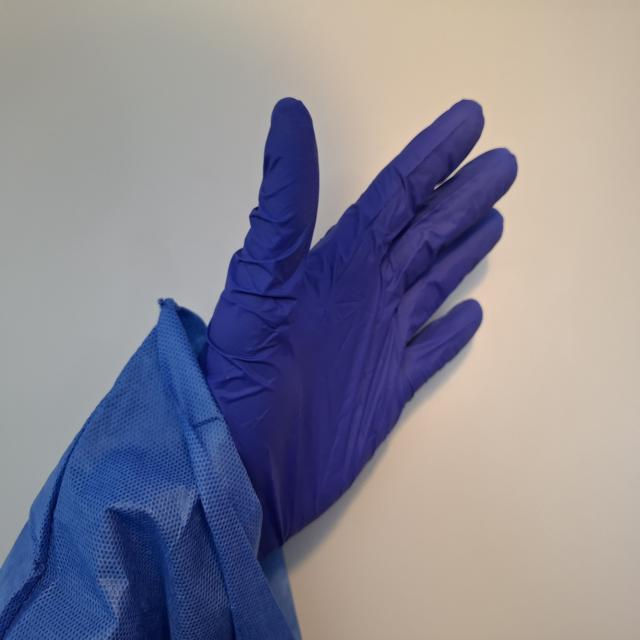glove_on: (166, 93, 521, 572)
